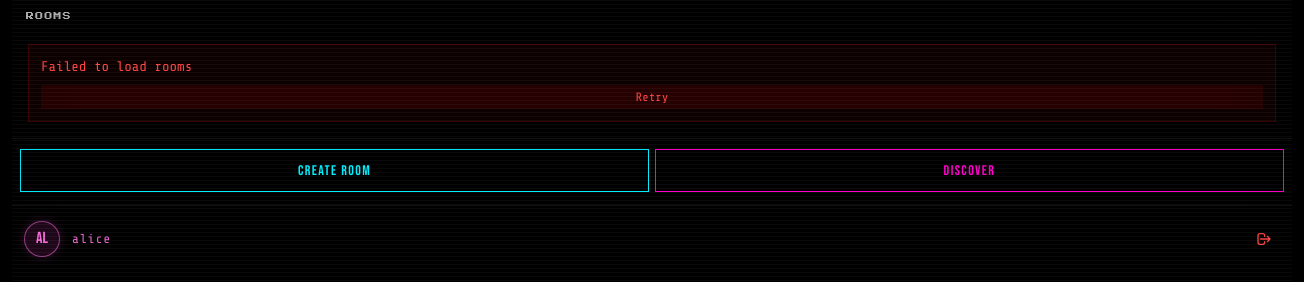
Test: RoomList › shows fetch error and retries successfully
Check: the text "Failed to load rooms" is shown, box x1=41 y1=59 x2=192 y2=74
Click the button "Retry". click: {"x": 652, "y": 97}
box: x1=41 y1=85 x2=1263 y2=109
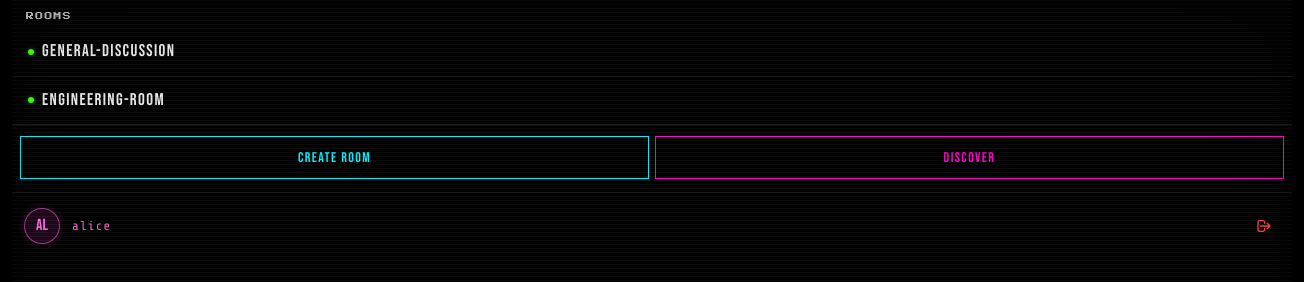
Check: the text "General-Discussion" is shown, box x1=42 y1=41 x2=175 y2=61
